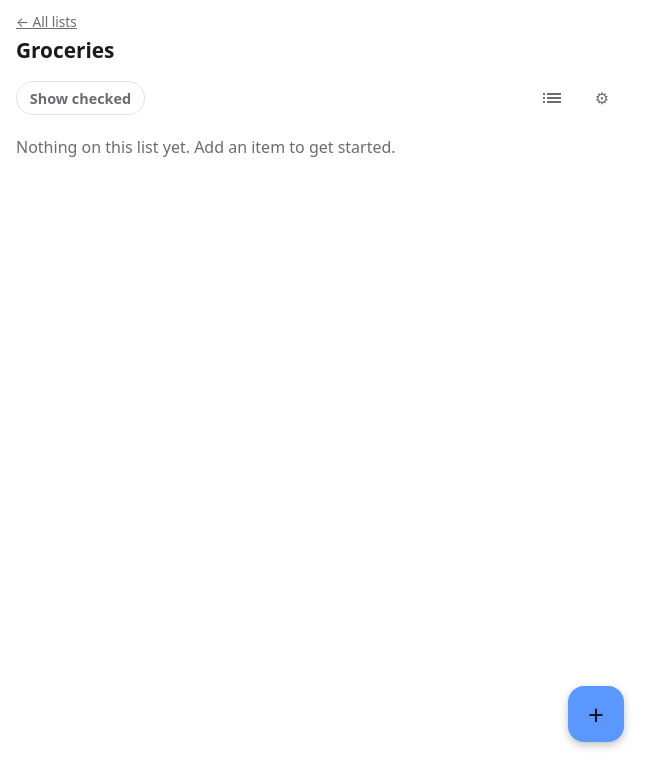
ListPropsPage notes (T-62) › loads an existing note into the textarea
The image size is (645, 762).
Expected: the link "Groceries" is shown, [16, 36, 114, 64]
Click the link named "List properties": [602, 98] box [595, 87, 609, 109]
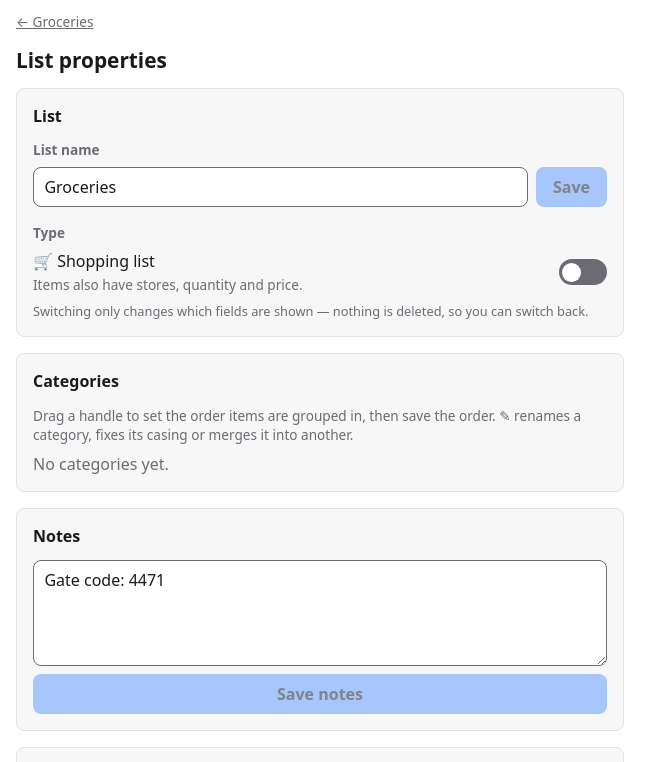
Result: the text box with placeholder "Gate code, store hours, anything worth remembering…" holds "Gate code: 4471" at [33, 560, 607, 666]
